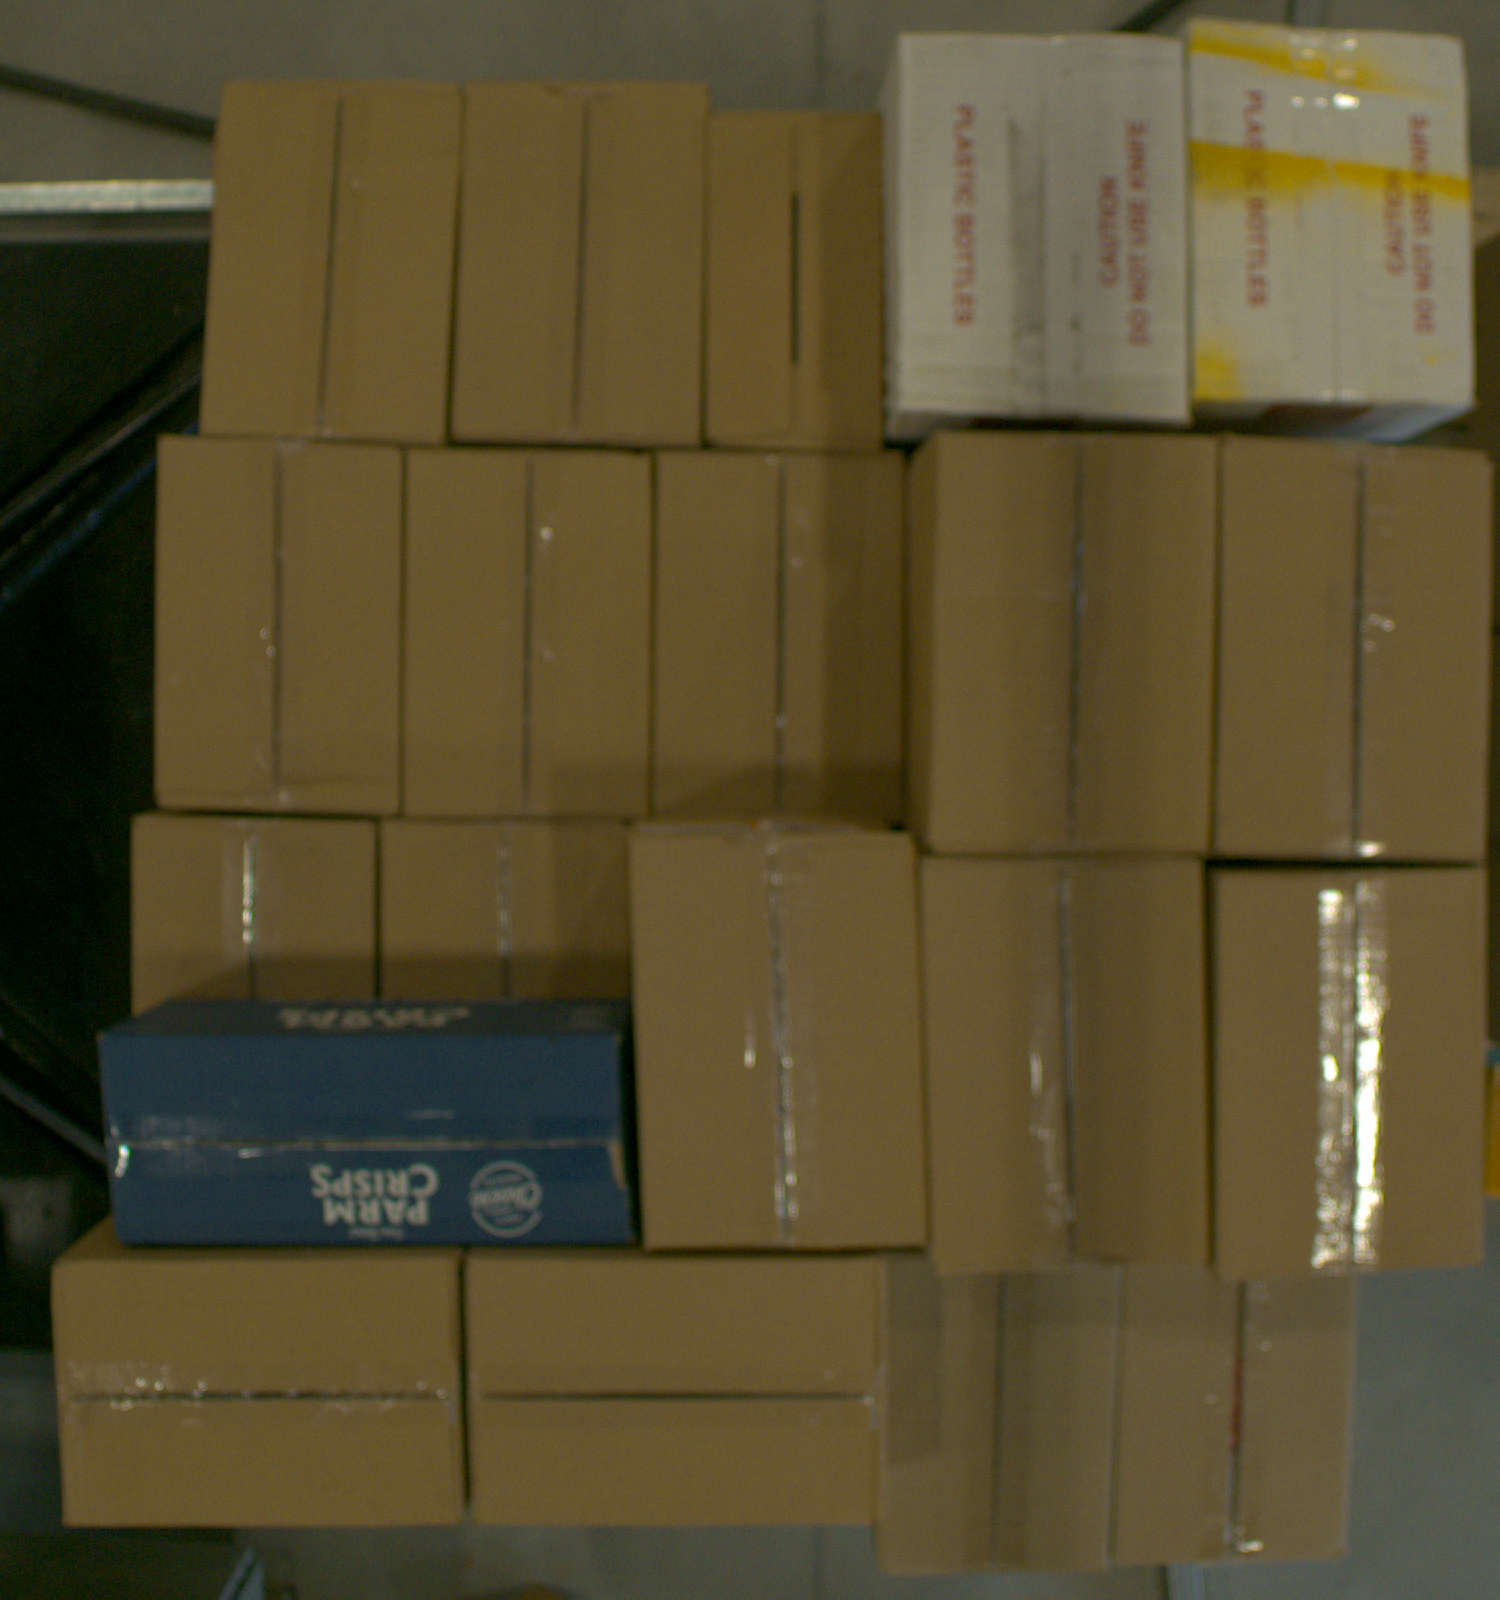box top: (633, 833, 925, 1250), (930, 434, 1217, 854), (923, 859, 1212, 1273), (1217, 441, 1494, 861), (467, 1257, 880, 1530), (895, 35, 1186, 419), (99, 1038, 633, 1243), (1191, 23, 1473, 409), (1219, 871, 1484, 1279), (63, 1263, 455, 1527), (154, 438, 405, 815), (202, 80, 461, 444), (656, 453, 905, 820), (455, 83, 708, 443), (405, 454, 650, 818), (877, 1259, 1119, 1575), (1117, 1267, 1360, 1563), (703, 113, 885, 450), (134, 822, 376, 1016), (383, 823, 625, 997)
